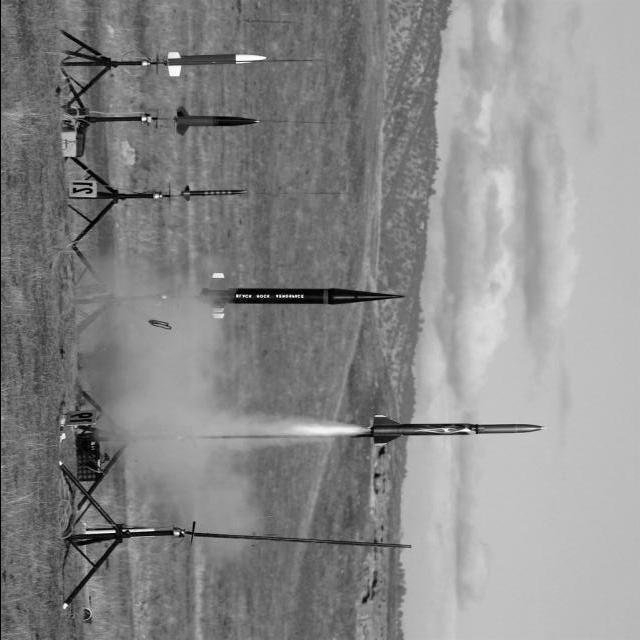missile: (195, 267, 404, 319), (365, 411, 548, 445), (171, 101, 259, 134), (166, 51, 268, 78), (177, 182, 253, 203)
